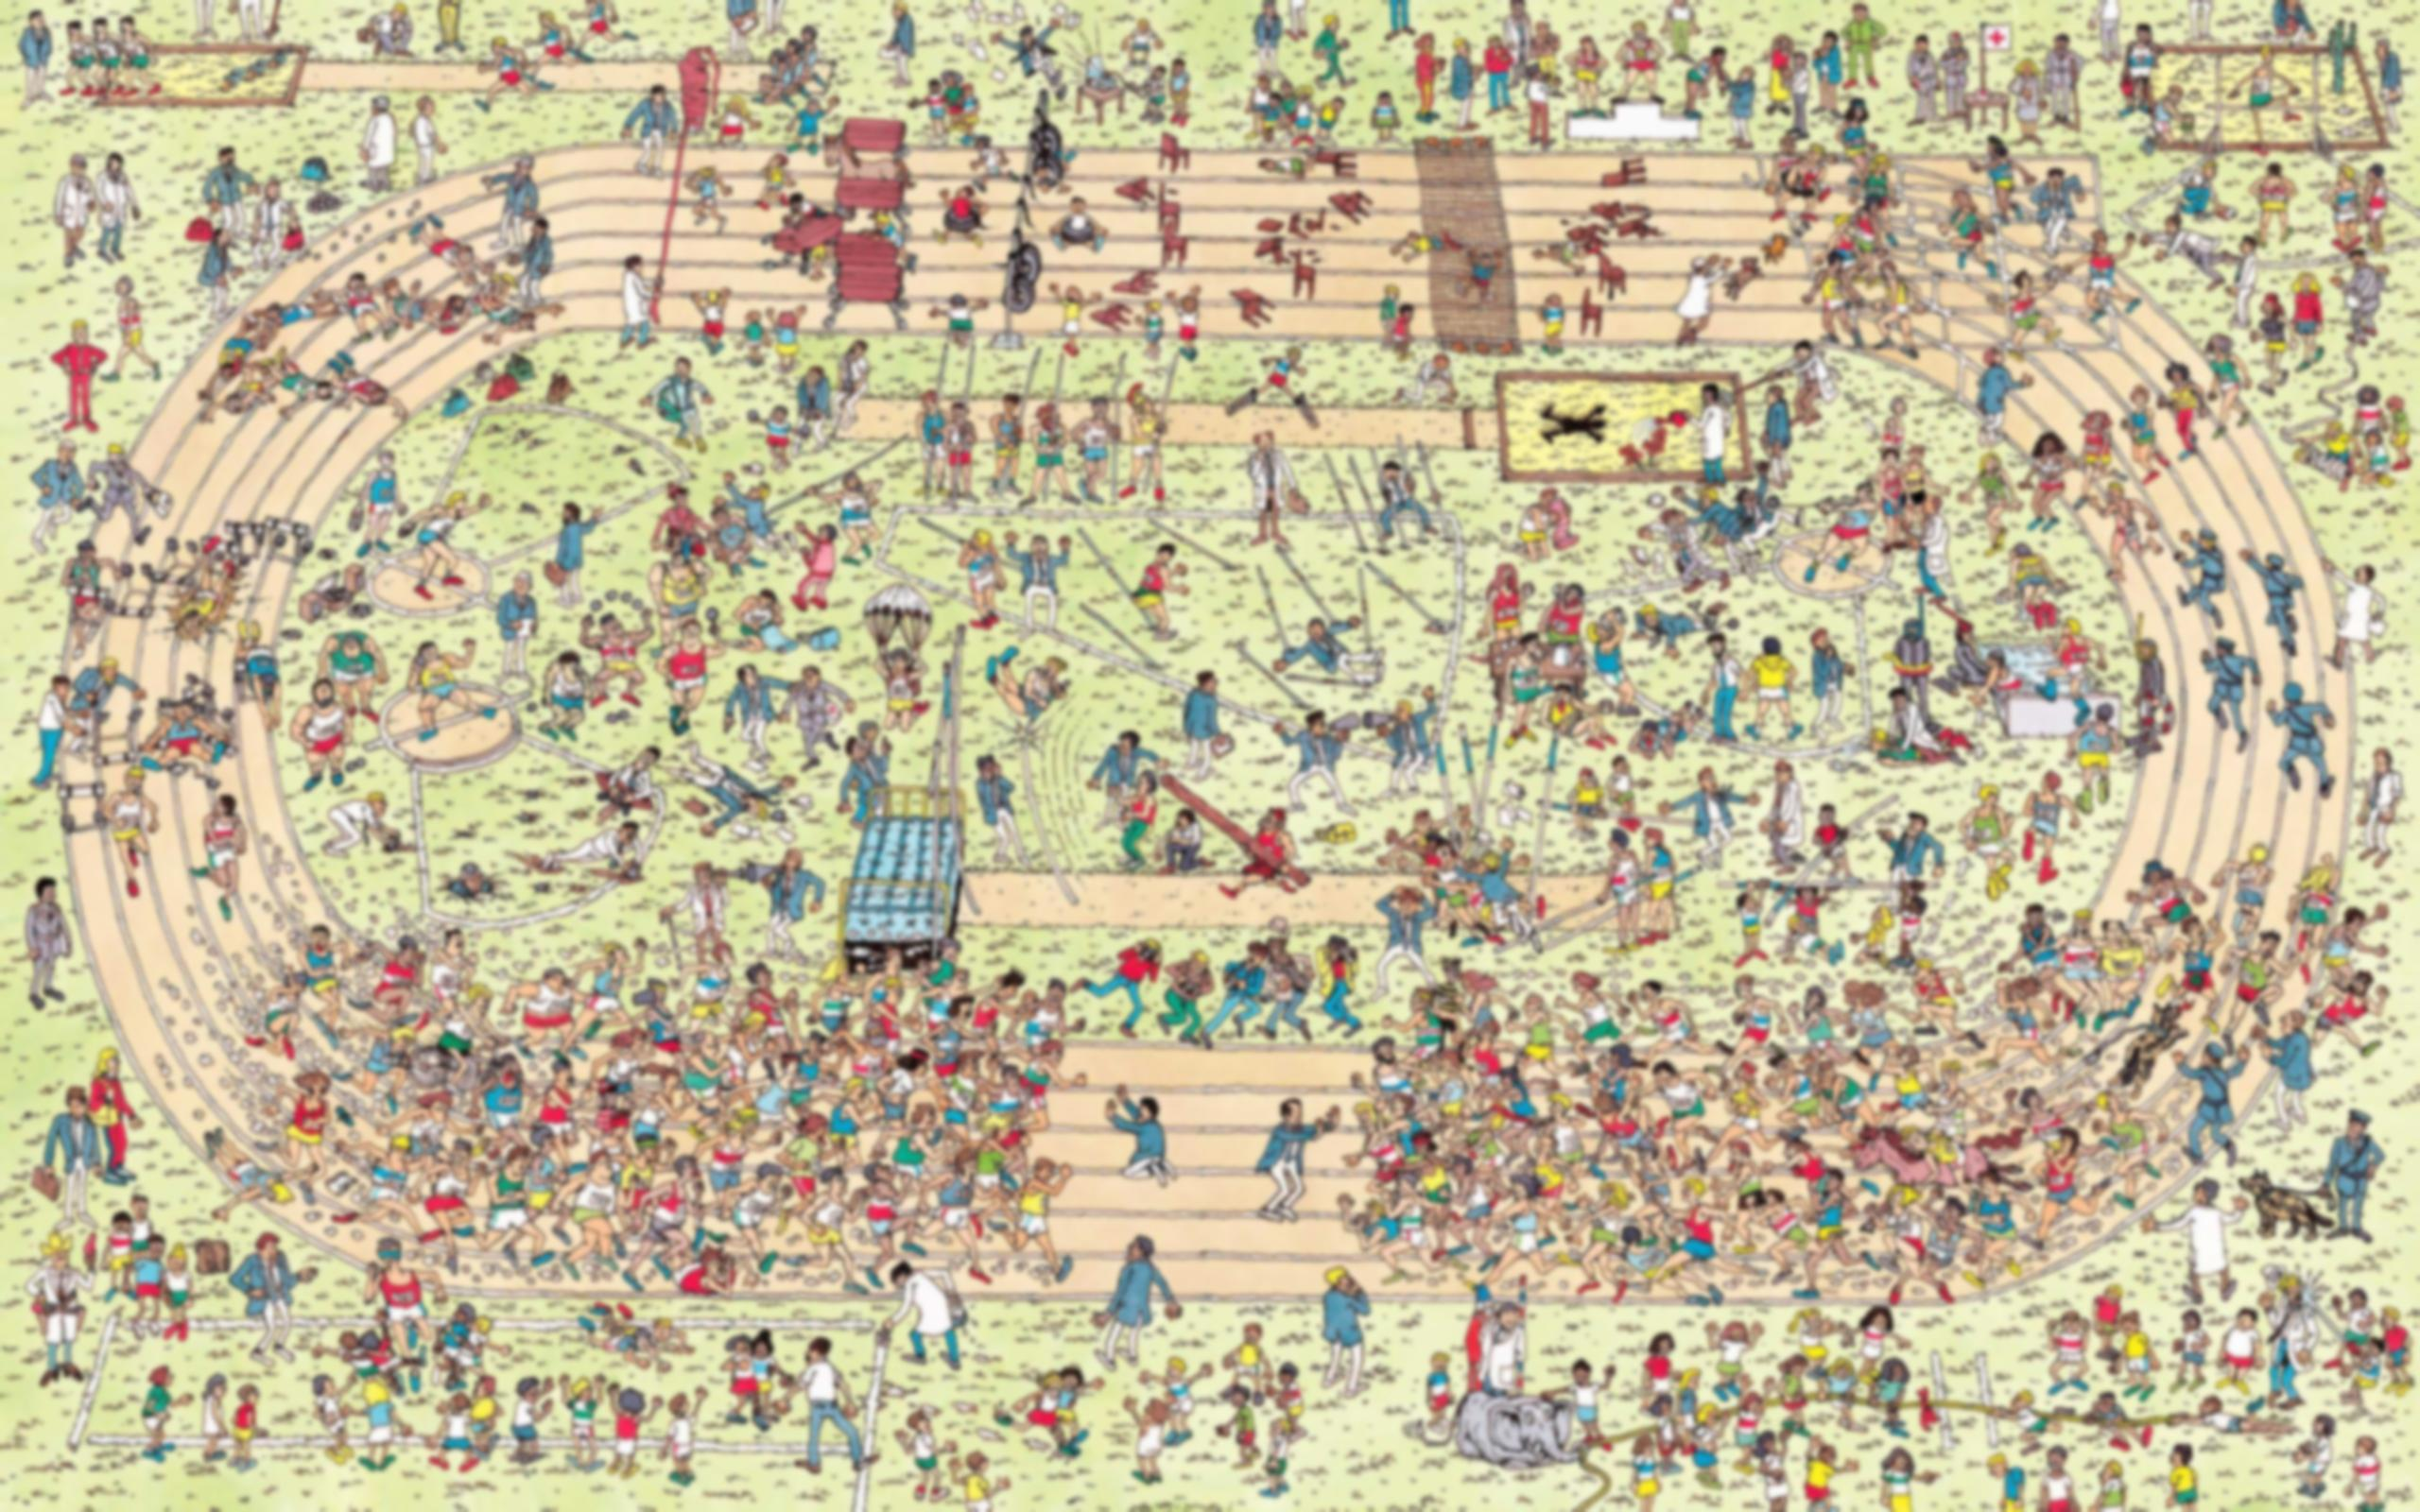waldos: (652, 488, 713, 561)
